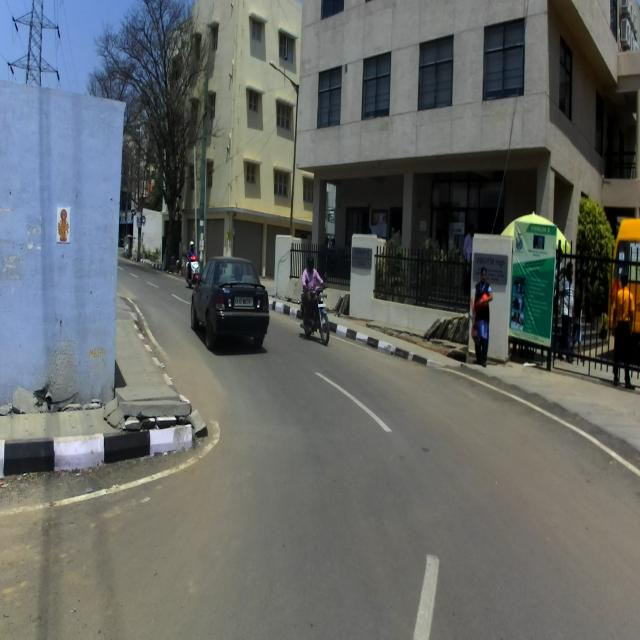car ahead at: (190, 253, 276, 352)
